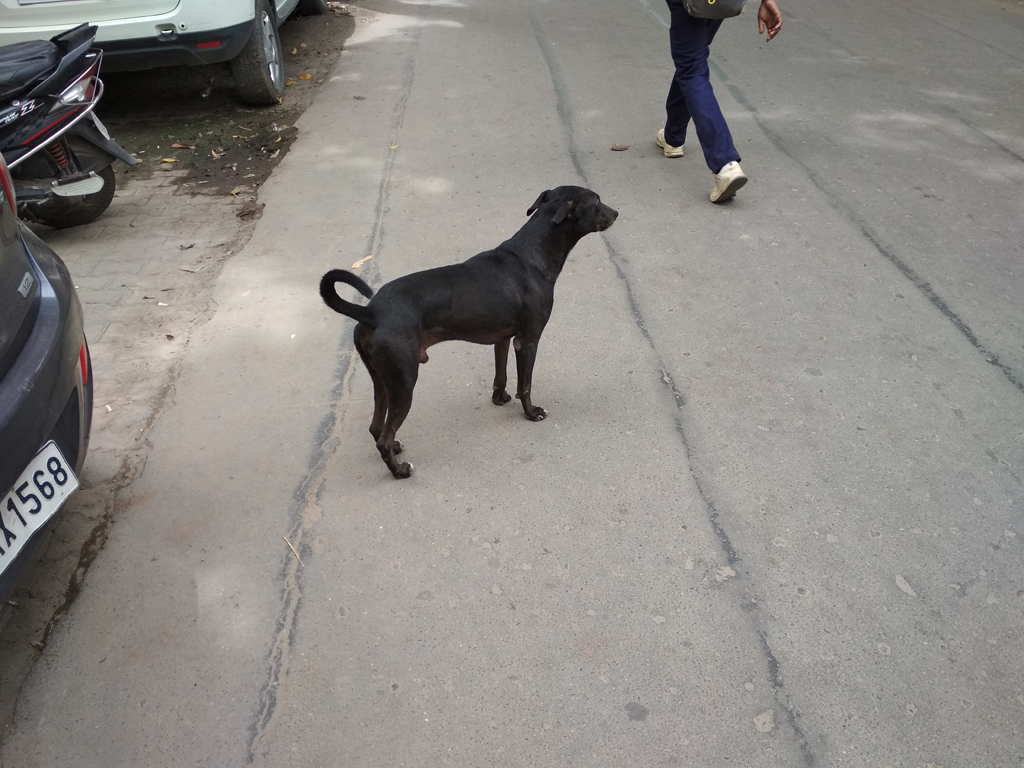dog: (319, 186, 619, 477)
